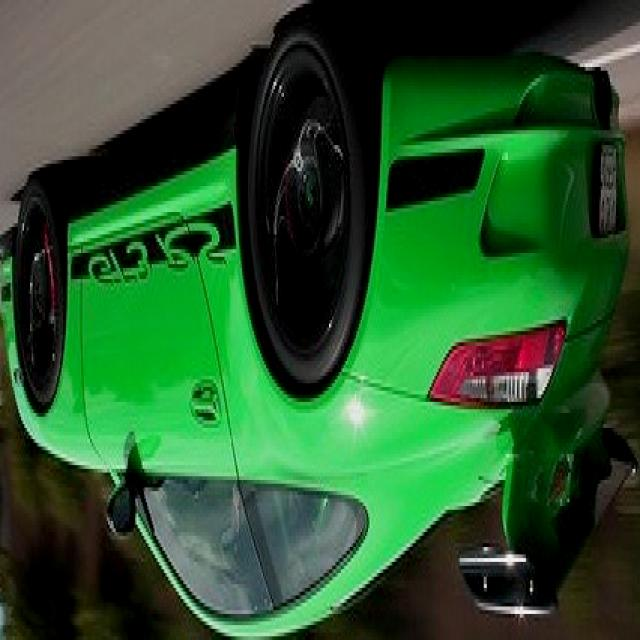green: (0, 30, 637, 640)
